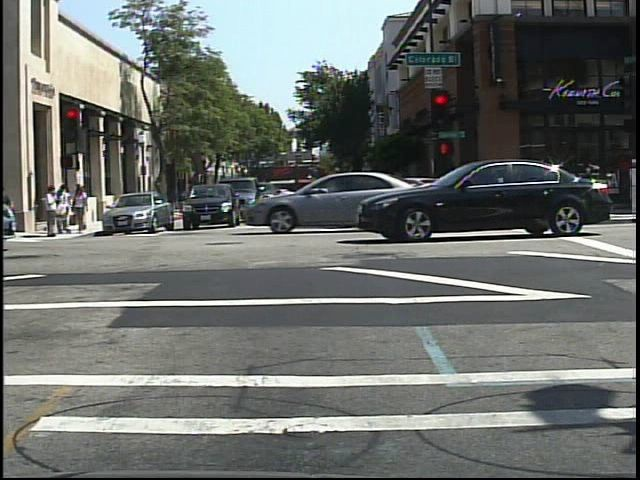person: (151, 180, 169, 218)
